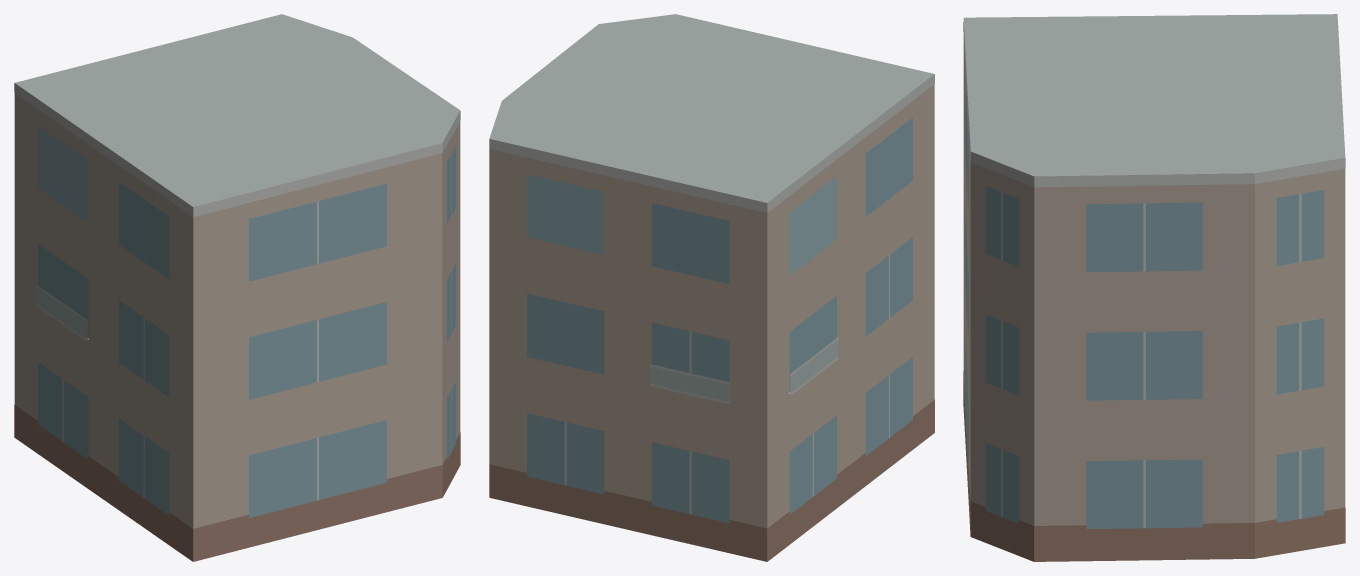
The model's file is survey-upis-32714858.glb.
3 views of the same model, side by side, from view 1: azimuth 30°, elevation 25°; view 2: azimuth 150°, elevation 25°; view 3: azimuth 270°, elevation 25° (orthographic). The views are drawn at different scales.
Parts seen in each view (by area): view 1: survey-upis-32714858.tmp; view 2: survey-upis-32714858.tmp; view 3: survey-upis-32714858.tmp.
Part boxes in pixels (x1,y1,x2,y2): survey-upis-32714858.tmp: (14,14,460,561); survey-upis-32714858.tmp: (489,14,934,561); survey-upis-32714858.tmp: (963,14,1345,561).
Size of the model in its own units: 7.89 by 8.7 by 7.82.
